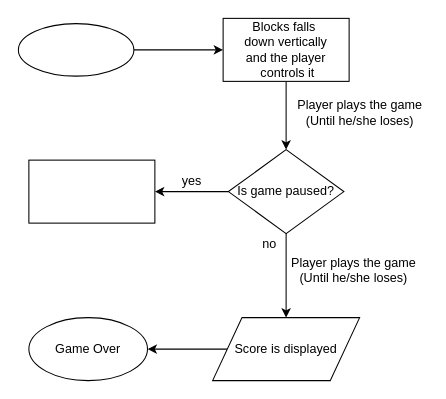
The diagram is 446 pixels wide and 399 high, and some of its shapes have lost their labels. The box of each missing label's shape, as (x1, y1, x2, y2) in pixels:
Game Freezes until player continues the game again: (28, 159, 155, 223)
Game Starts: (17, 23, 134, 76)
